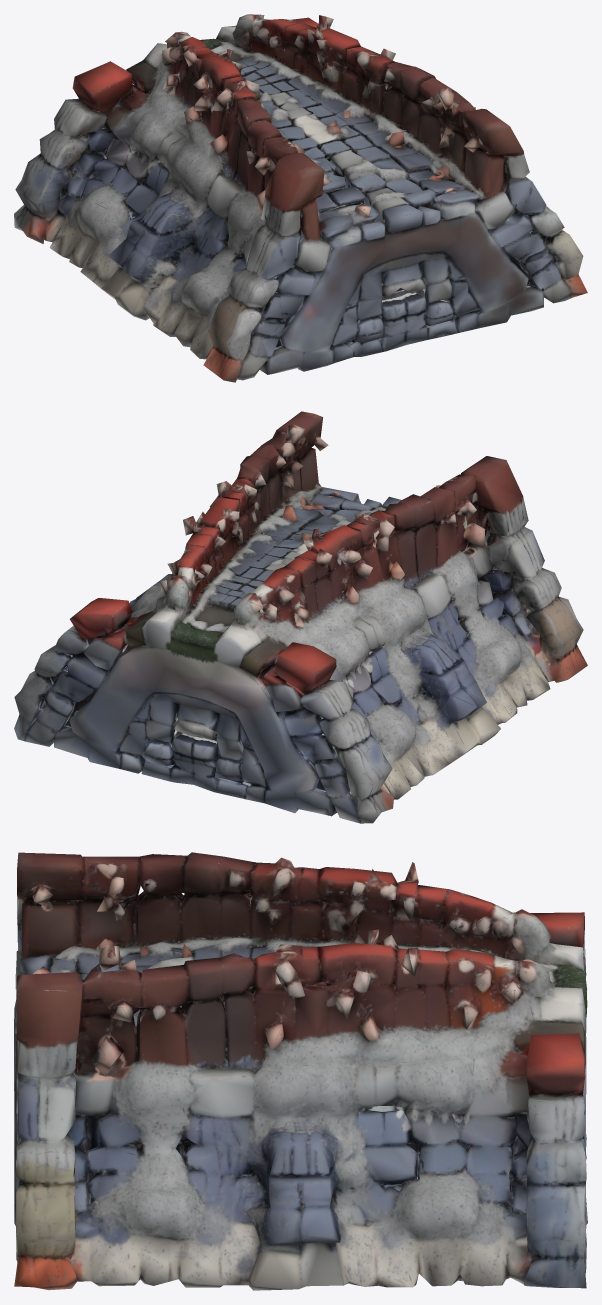
File: Meshy_AI_Berry_Bridge_0202120629_texture.fbx
3 views of the same model, one above another, from view 1: azimuth 30°, elevation 25°; view 2: azimuth 150°, elevation 25°; view 3: azimuth 270°, elevation 25° (orthographic). The views are drawn at different scales.
Parts seen in each view (by area): view 1: Mesh1.0; view 2: Mesh1.0; view 3: Mesh1.0.
Boxes of the visible parts, box(x1,y1,x2,y2) form: Mesh1.0: box(14, 14, 587, 382); Mesh1.0: box(14, 411, 587, 823); Mesh1.0: box(14, 852, 587, 1290).
Bounding box in the file's own units: 200 × 112 × 200.
Materials: 1 (1 with a texture image).
